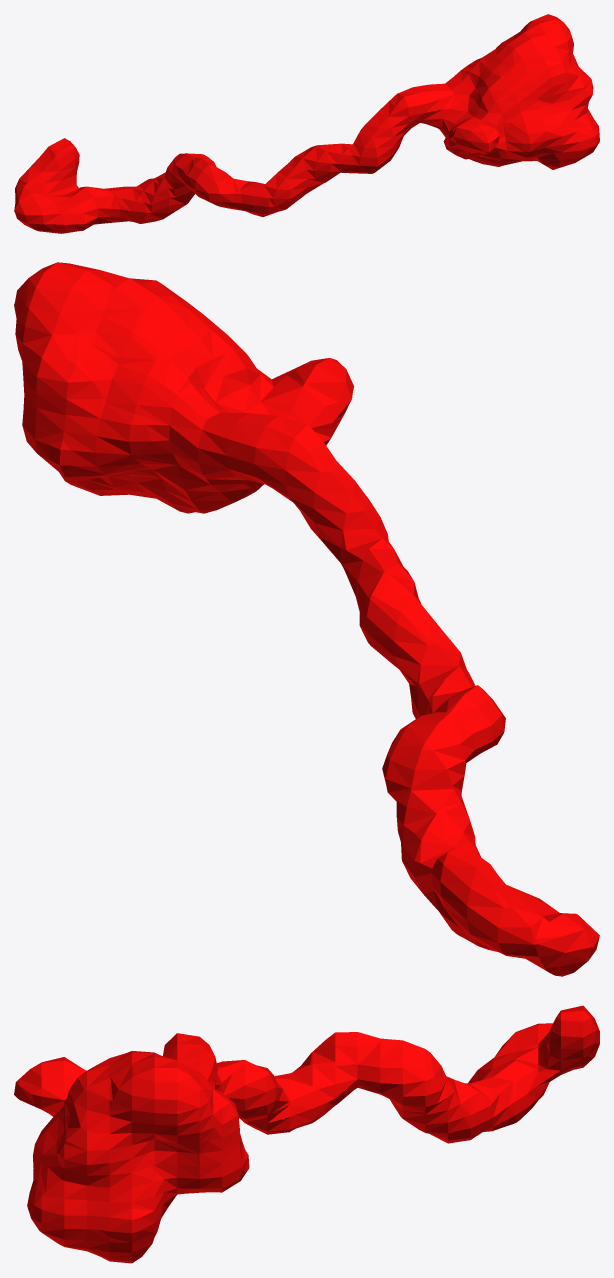
File: sspB_coarse.dae
The picture shows the model from 3 angles, top to bottom: view 1: azimuth 30°, elevation 25°; view 2: azimuth 150°, elevation 25°; view 3: azimuth 270°, elevation 25°; orthographic projection. The views are drawn at different scales.
Parts seen in each view (by area): view 1: sspB; view 2: sspB; view 3: sspB.
Boxes of the visible parts, box(x1,y1,x2,y2) form: sspB: box(14, 14, 599, 233); sspB: box(14, 262, 599, 976); sspB: box(14, 1005, 599, 1263).
Bounding box in the file's own units: 130 × 57.92 × 97.84.
